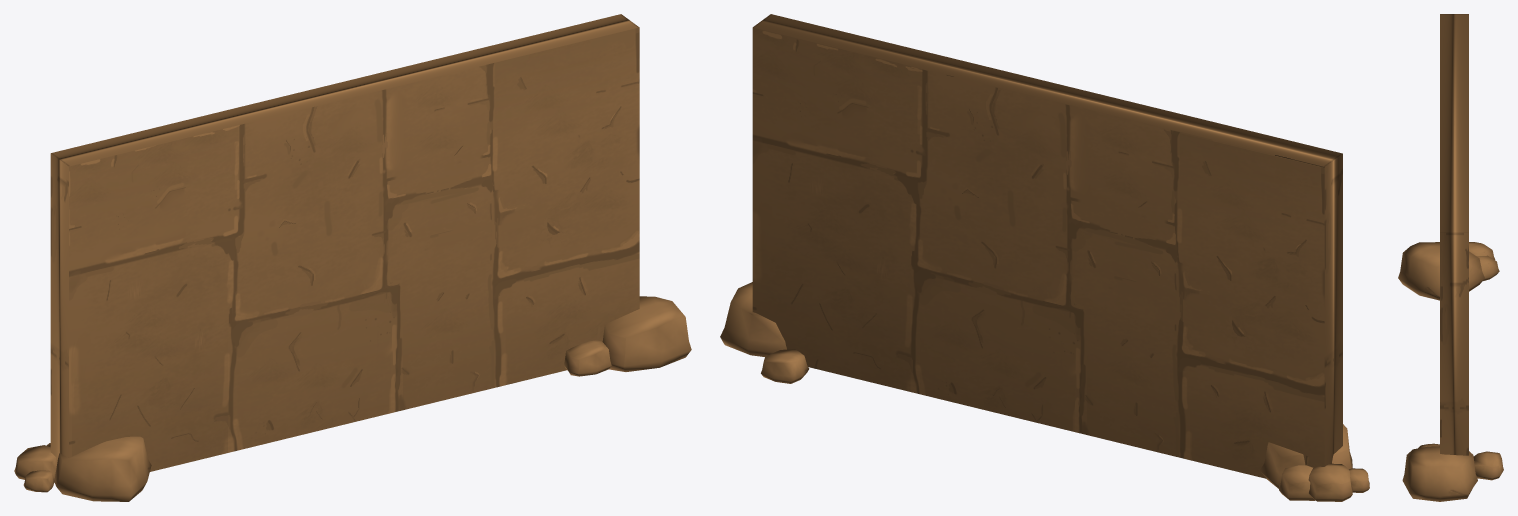
The model's file is wall.glb.
3 renders of one model, left to right at view 1: azimuth 30°, elevation 25°; view 2: azimuth 150°, elevation 25°; view 3: azimuth 270°, elevation 25°, orthographic. The views are drawn at different scales.
Visible parts, largest first — view 1: Cube_0; view 2: Cube_0; view 3: Cube_0.
Part boxes in pixels (<box>): Cube_0: <box>14,14,691,501</box>; Cube_0: <box>720,14,1369,501</box>; Cube_0: <box>1398,14,1503,501</box>.
Size of the model in its own units: 3.28 by 1.6 by 0.5958.
1 material, 1 textured.
